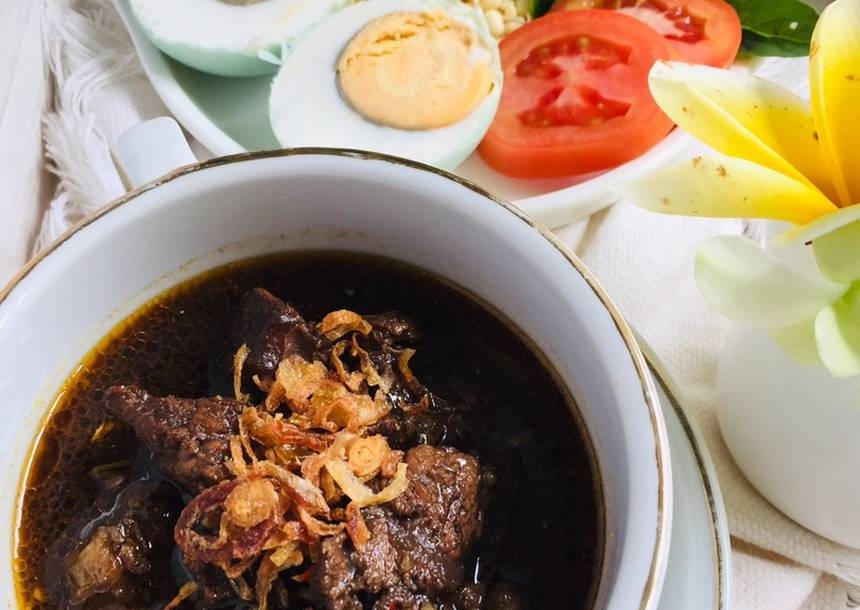rawon: (2, 246, 559, 588)
